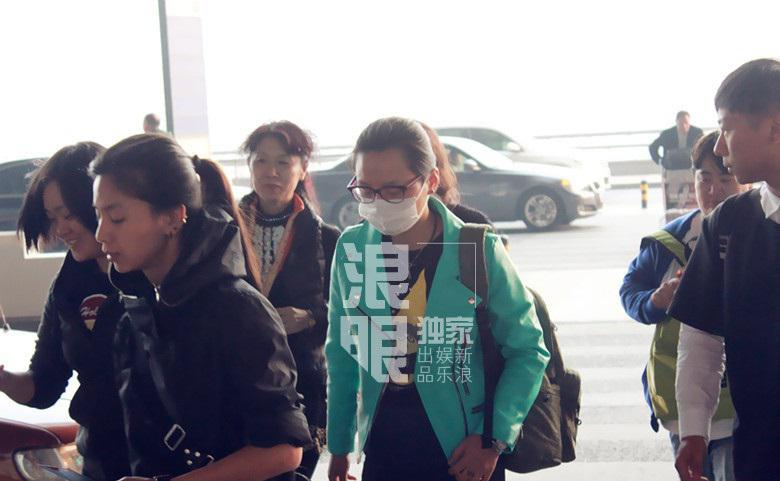NONE: (93, 195, 164, 275), (716, 122, 769, 183), (44, 199, 97, 259), (693, 169, 742, 218), (251, 152, 297, 200)
OK: (353, 167, 423, 237)
